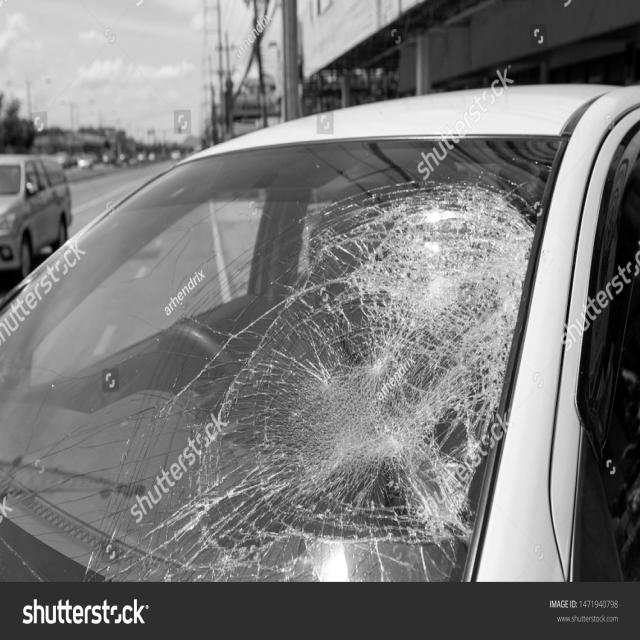crack: (94, 168, 544, 588)
